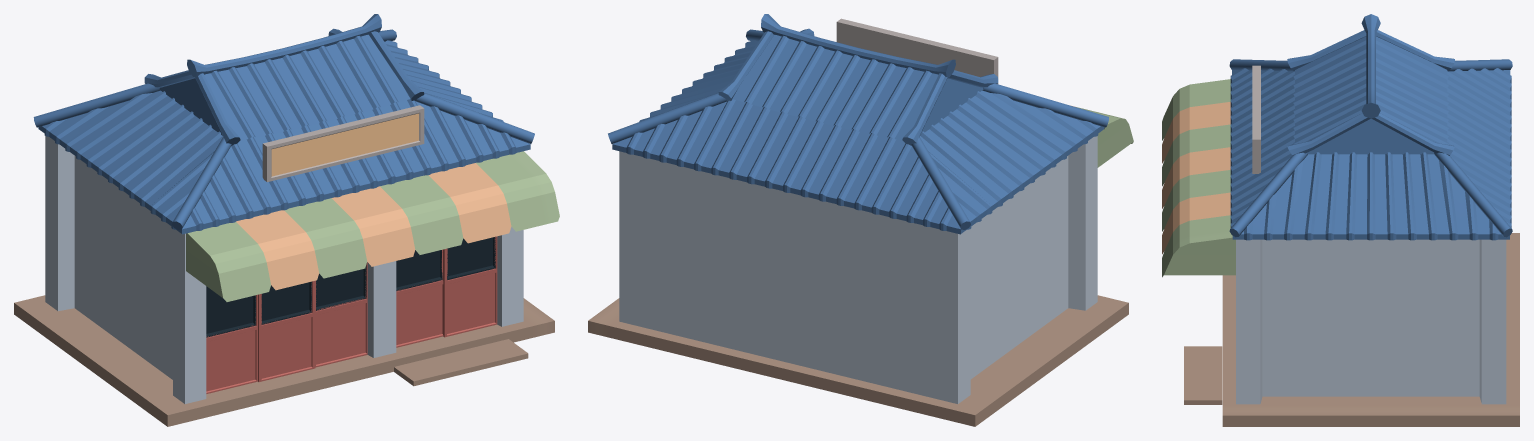
Rendered from Countryhouse002.fbx.
3 views of the same model, side by side, from view 1: azimuth 30°, elevation 25°; view 2: azimuth 150°, elevation 25°; view 3: azimuth 270°, elevation 25° (orthographic). The views are drawn at different scales.
Parts seen in each view (by area): view 1: Countryhouse002; view 2: Countryhouse002; view 3: Countryhouse002.
Boxes of the visible parts, x1=… form: Countryhouse002: x1=14, y1=14, x2=559, y2=426; Countryhouse002: x1=588, y1=14, x2=1133, y2=426; Countryhouse002: x1=1162, y1=14, x2=1519, y2=426.
Size of the model in its own units: 160 by 132 by 113.
